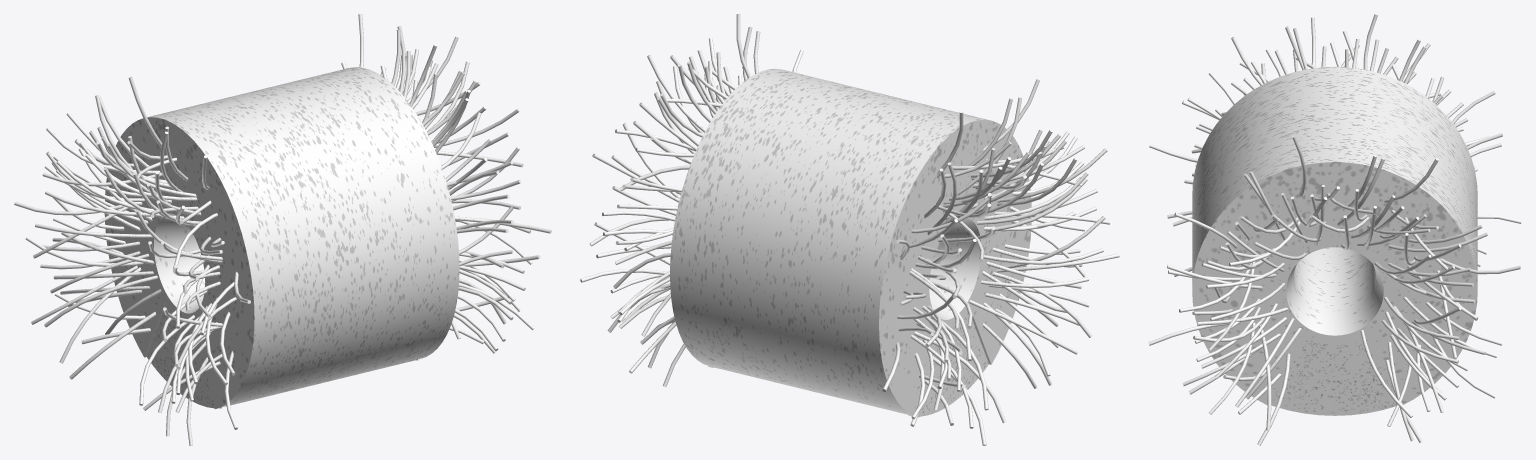
Rendered from Web Nest.fbx.
3 views of the same model, side by side, from view 1: azimuth 30°, elevation 25°; view 2: azimuth 150°, elevation 25°; view 3: azimuth 270°, elevation 25° (orthographic). The views are drawn at different scales.
Visible parts, largest first — view 1: WebTunnel, WebDoor_02, Line309; view 2: WebTunnel, WebDoor_02, Line272, Line286; view 3: WebTunnel, WebDoor_01, Line126, Line119, Line098, Line122, Line129, Line127, Line099, Line033, Line030, Line020 (+1 smaller).
Boxes of the visible parts, x1,y1,x2,y2 form: WebTunnel: (104,67,459,409); WebDoor_02: (146,305,225,408); Line309: (44,275,157,327); WebTunnel: (670,68,1031,417); WebDoor_02: (908,313,988,416); Line272: (977,172,1088,224); Line286: (983,248,1103,264); WebTunnel: (1192,66,1477,405); WebDoor_01: (1271,339,1396,415); Line126: (1235,318,1294,407); Line119: (1259,324,1271,430); Line098: (1360,330,1412,417); Line122: (1257,353,1290,445); Line129: (1197,307,1288,325); Line127: (1201,317,1286,368); Line099: (1388,342,1413,441); Line033: (1182,333,1280,385); Line030: (1215,303,1277,378); Line020: (1208,322,1255,414).
Bounding box in the file's own units: 80.27 × 65.07 × 72.4.
